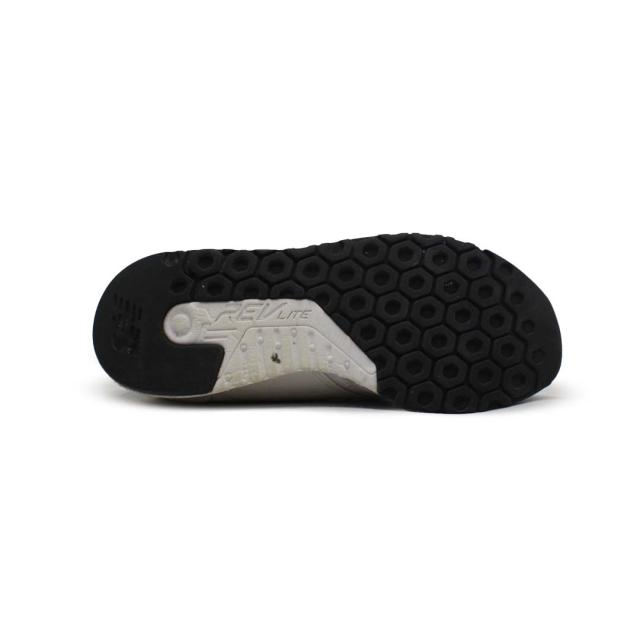outersole: (93, 232, 561, 410)
